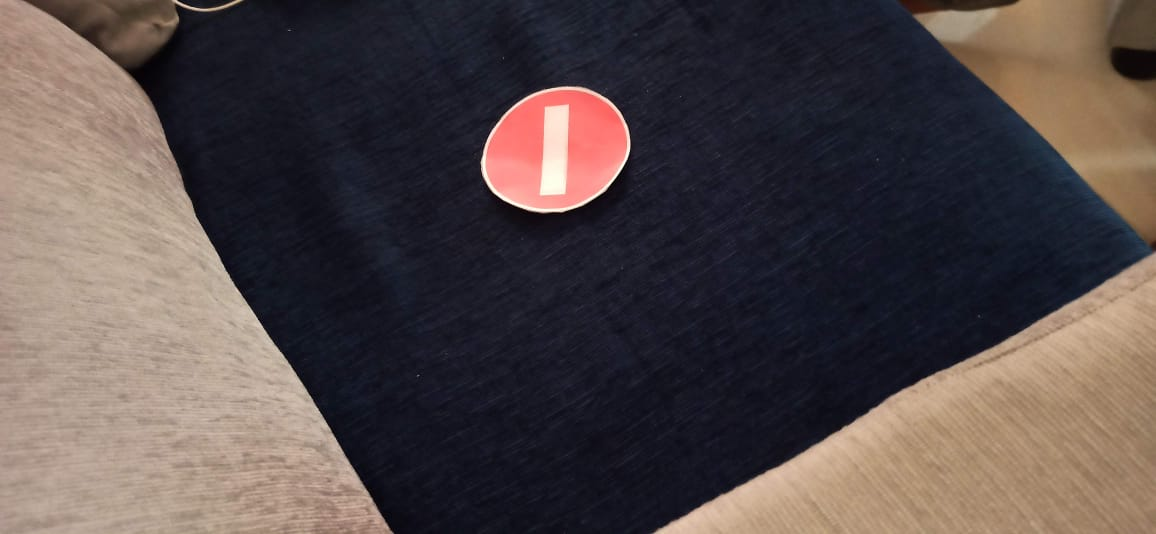NO ENTRY: (448, 67, 650, 226)
